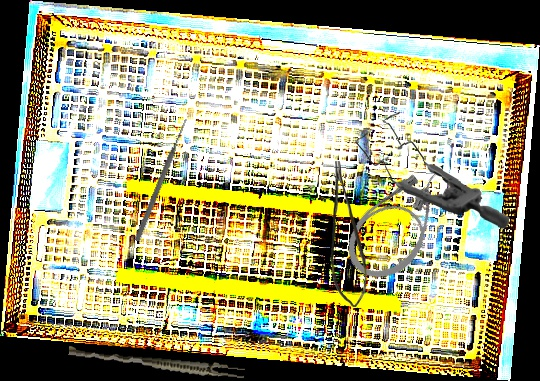Cannula: (332, 154, 471, 294)
Micro Scissor: (330, 161, 368, 307)
Pusher: (133, 117, 190, 243)
Speculum: (351, 109, 515, 230)
Tissue Forceps: (67, 345, 246, 381)
